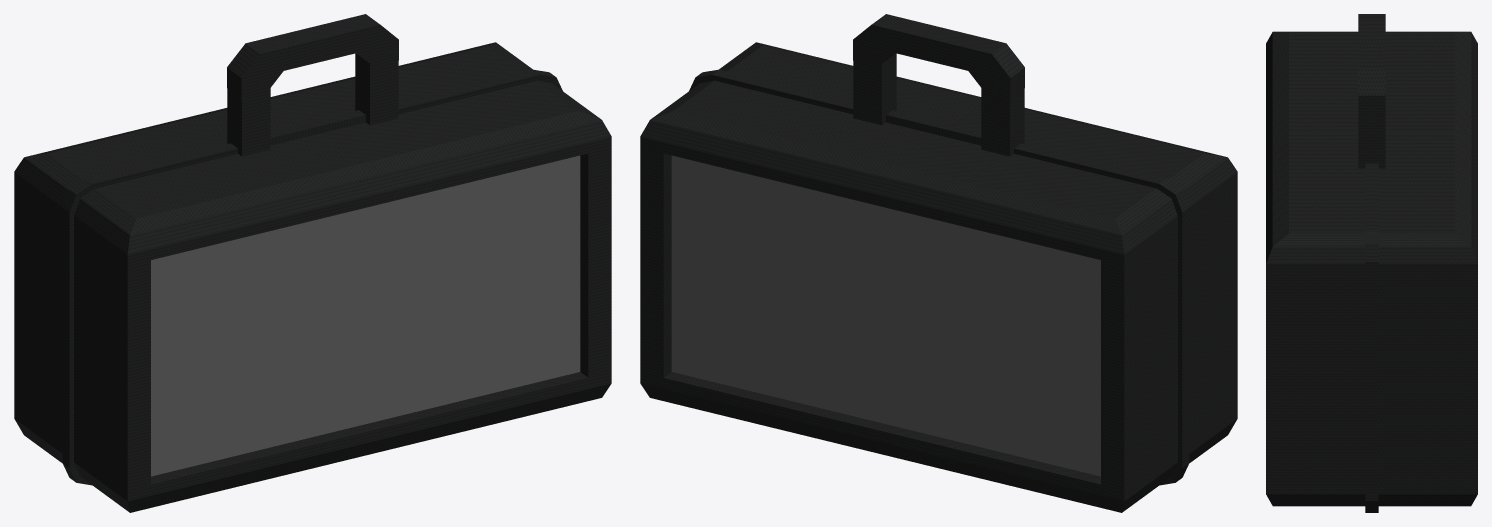
The model's file is Repair Kit.fbx.
3 renders of one model, left to right at view 1: azimuth 30°, elevation 25°; view 2: azimuth 150°, elevation 25°; view 3: azimuth 270°, elevation 25°, orthographic. The views are drawn at different scales.
Visible parts, largest first — view 1: Cube; view 2: Cube; view 3: Cube.
Part boxes in pixels (box(x1,y1,x2,y2)): Cube: box(14, 14, 611, 512); Cube: box(640, 14, 1237, 512); Cube: box(1266, 14, 1477, 512).
Size of the model in its own units: 204 by 156 by 81.08.
